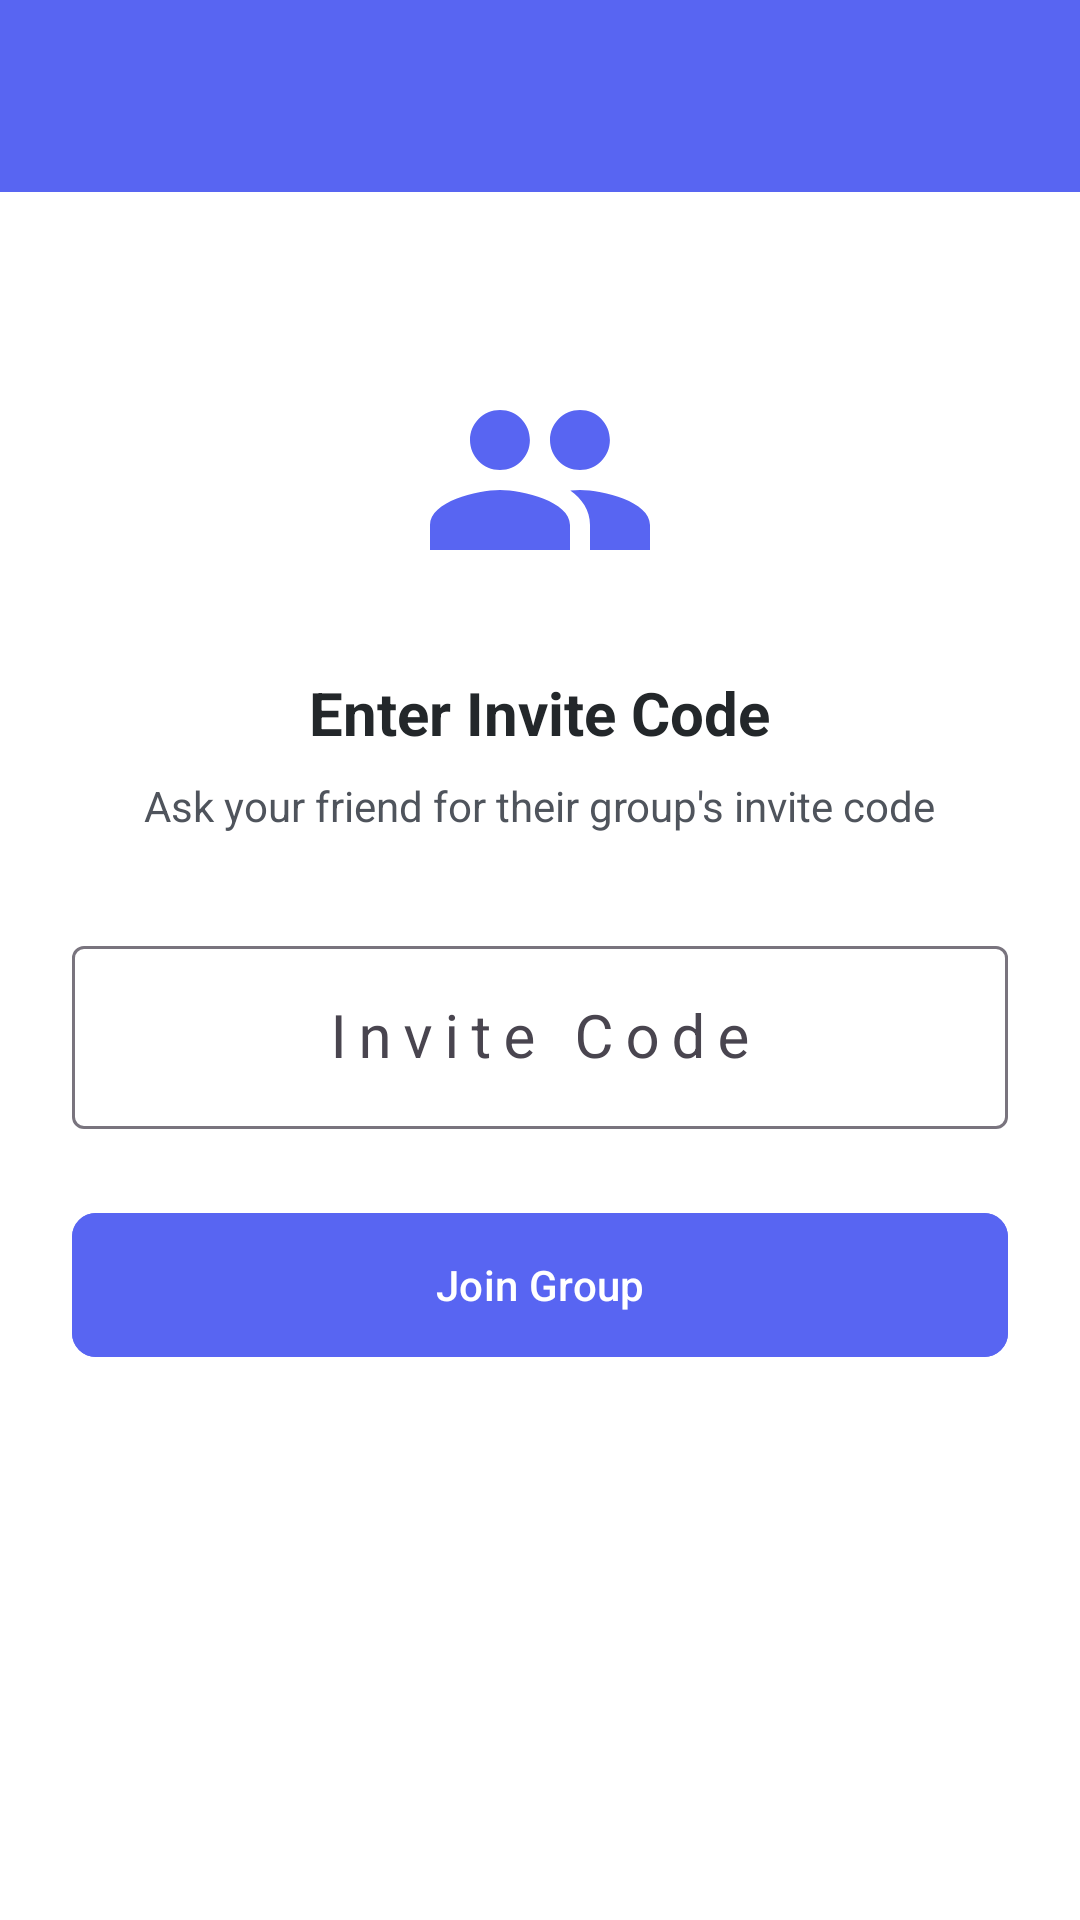

Named icons in this screenshot (1080*1920) and their centers, [x,y]:
Join group: [540,480]
